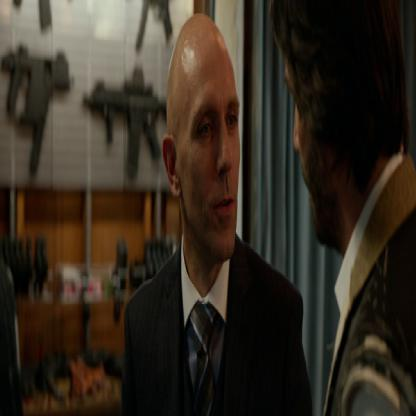Gun: (82, 59, 174, 182), (0, 43, 70, 181), (128, 0, 181, 49)
